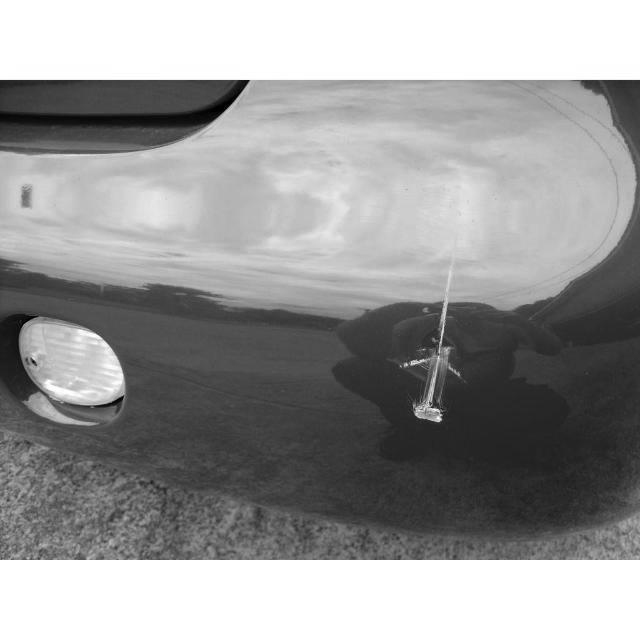rear-bumper-dent: (1, 201, 640, 543)
